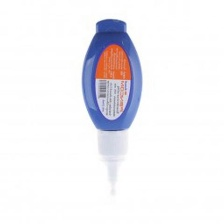correction_fluid: (79, 15, 143, 200)
